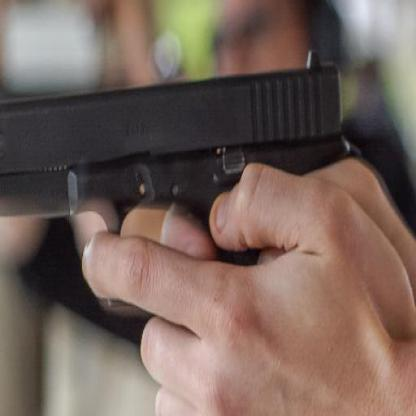gun: (0, 46, 366, 310)
